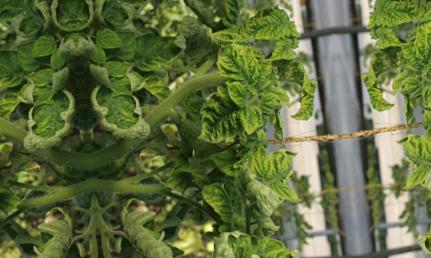Tomato leaf yellow virus: (226, 139, 309, 213), (90, 70, 153, 155), (216, 40, 278, 121), (201, 174, 244, 237), (95, 0, 173, 31)
